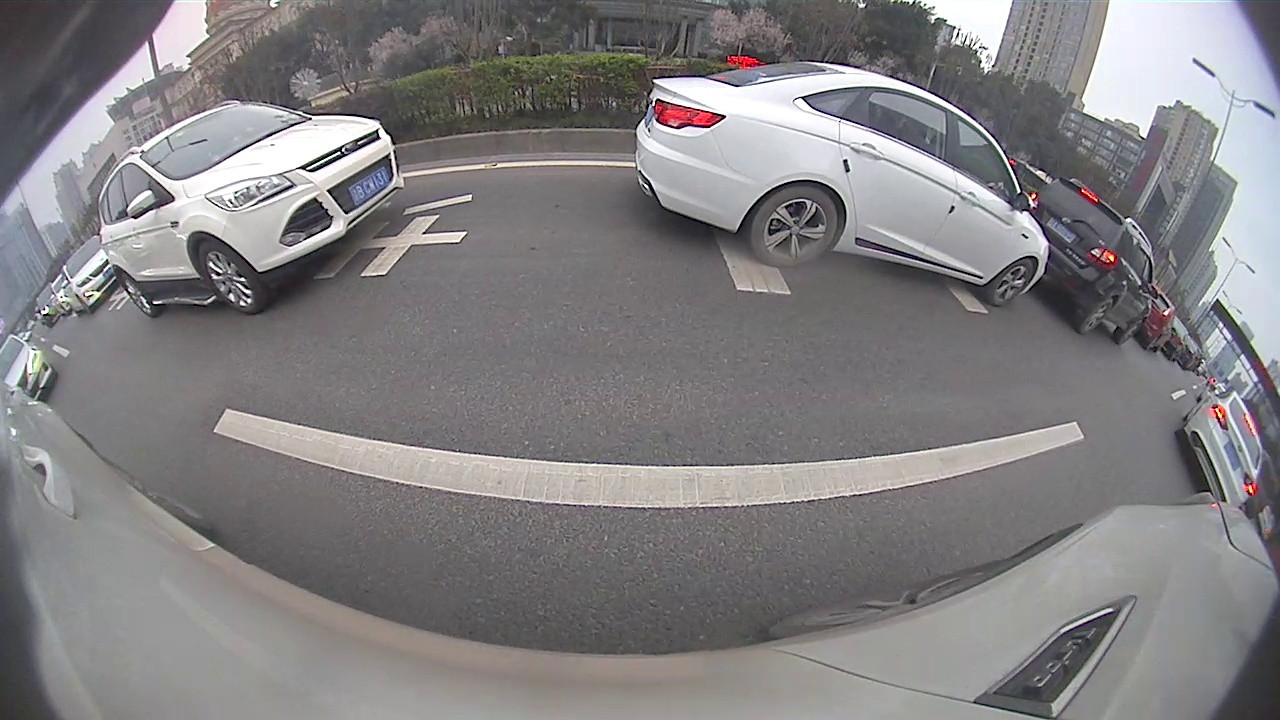car: (634, 60, 1049, 306), (96, 98, 406, 319), (1028, 175, 1156, 344), (1177, 386, 1267, 509), (58, 234, 122, 314), (1, 336, 56, 402)
front: (197, 238, 265, 316), (986, 255, 1035, 307)
rear: (747, 184, 841, 270), (119, 271, 159, 317), (1075, 294, 1113, 334)
